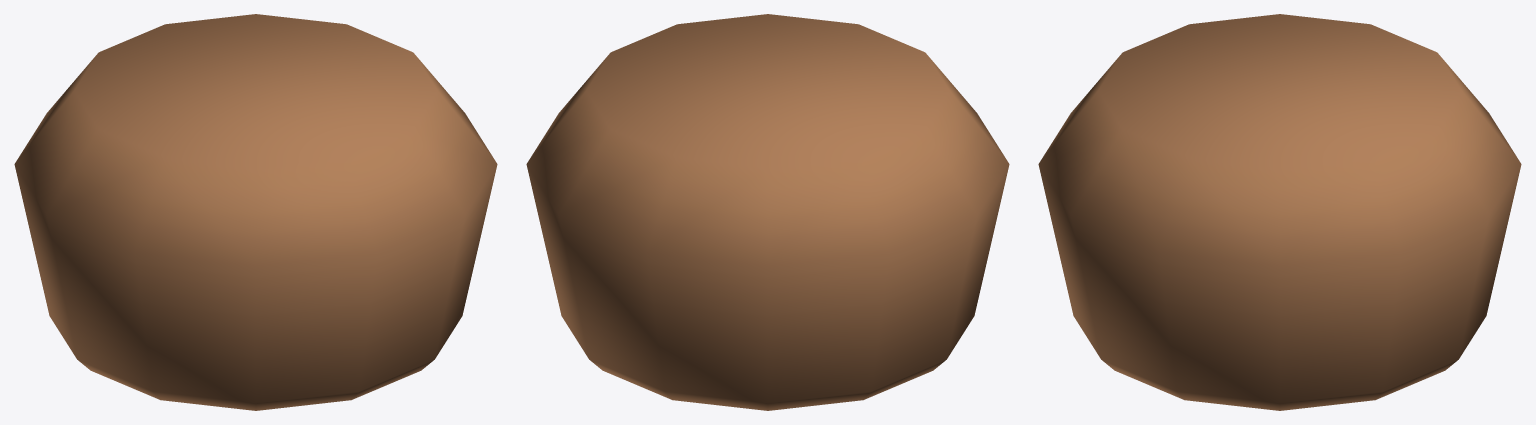
Rendered from PotionBottleCork1.fbx.
The picture shows the model from 3 angles, left to right: view 1: azimuth 30°, elevation 25°; view 2: azimuth 150°, elevation 25°; view 3: azimuth 270°, elevation 25°; orthographic projection.
Parts seen in each view (by area): view 1: PotionBottleCork1; view 2: PotionBottleCork1; view 3: PotionBottleCork1.
Part boxes in pixels (x1=…): PotionBottleCork1: x1=14, y1=14, x2=497, y2=410; PotionBottleCork1: x1=526, y1=14, x2=1009, y2=410; PotionBottleCork1: x1=1038, y1=14, x2=1521, y2=410.
Bounding box in the file's own units: 3.58 × 1.96 × 3.58.
